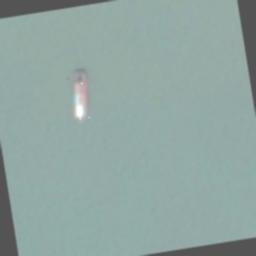boat: (66, 68, 94, 124)
